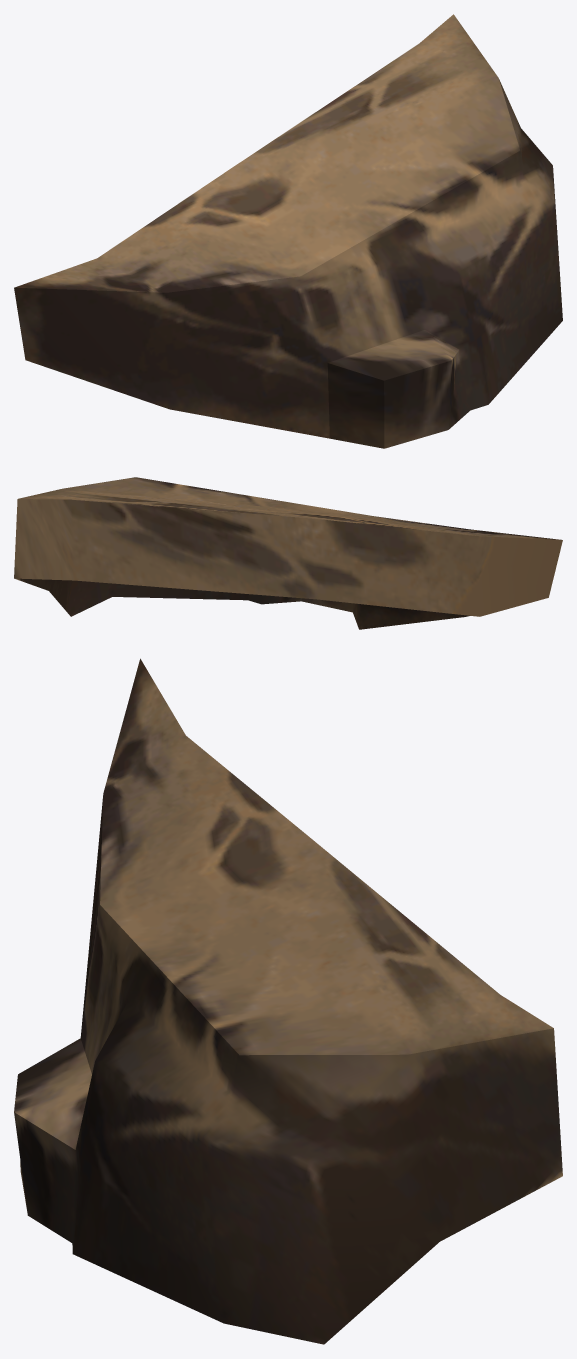
File: xsm_shitou_16.FBX
3 views of the same model, one above another, from view 1: azimuth 30°, elevation 25°; view 2: azimuth 150°, elevation 25°; view 3: azimuth 270°, elevation 25° (orthographic). The views are drawn at different scales.
Visible parts, largest first — view 1: xsm_shitou_16; view 2: xsm_shitou_16; view 3: xsm_shitou_16.
Boxes of the visible parts, bbox=[...] form: xsm_shitou_16: bbox=[14, 14, 562, 448]; xsm_shitou_16: bbox=[14, 477, 562, 629]; xsm_shitou_16: bbox=[14, 658, 562, 1344].
Size of the model in its own units: 48.89 by 18 by 27.88.
